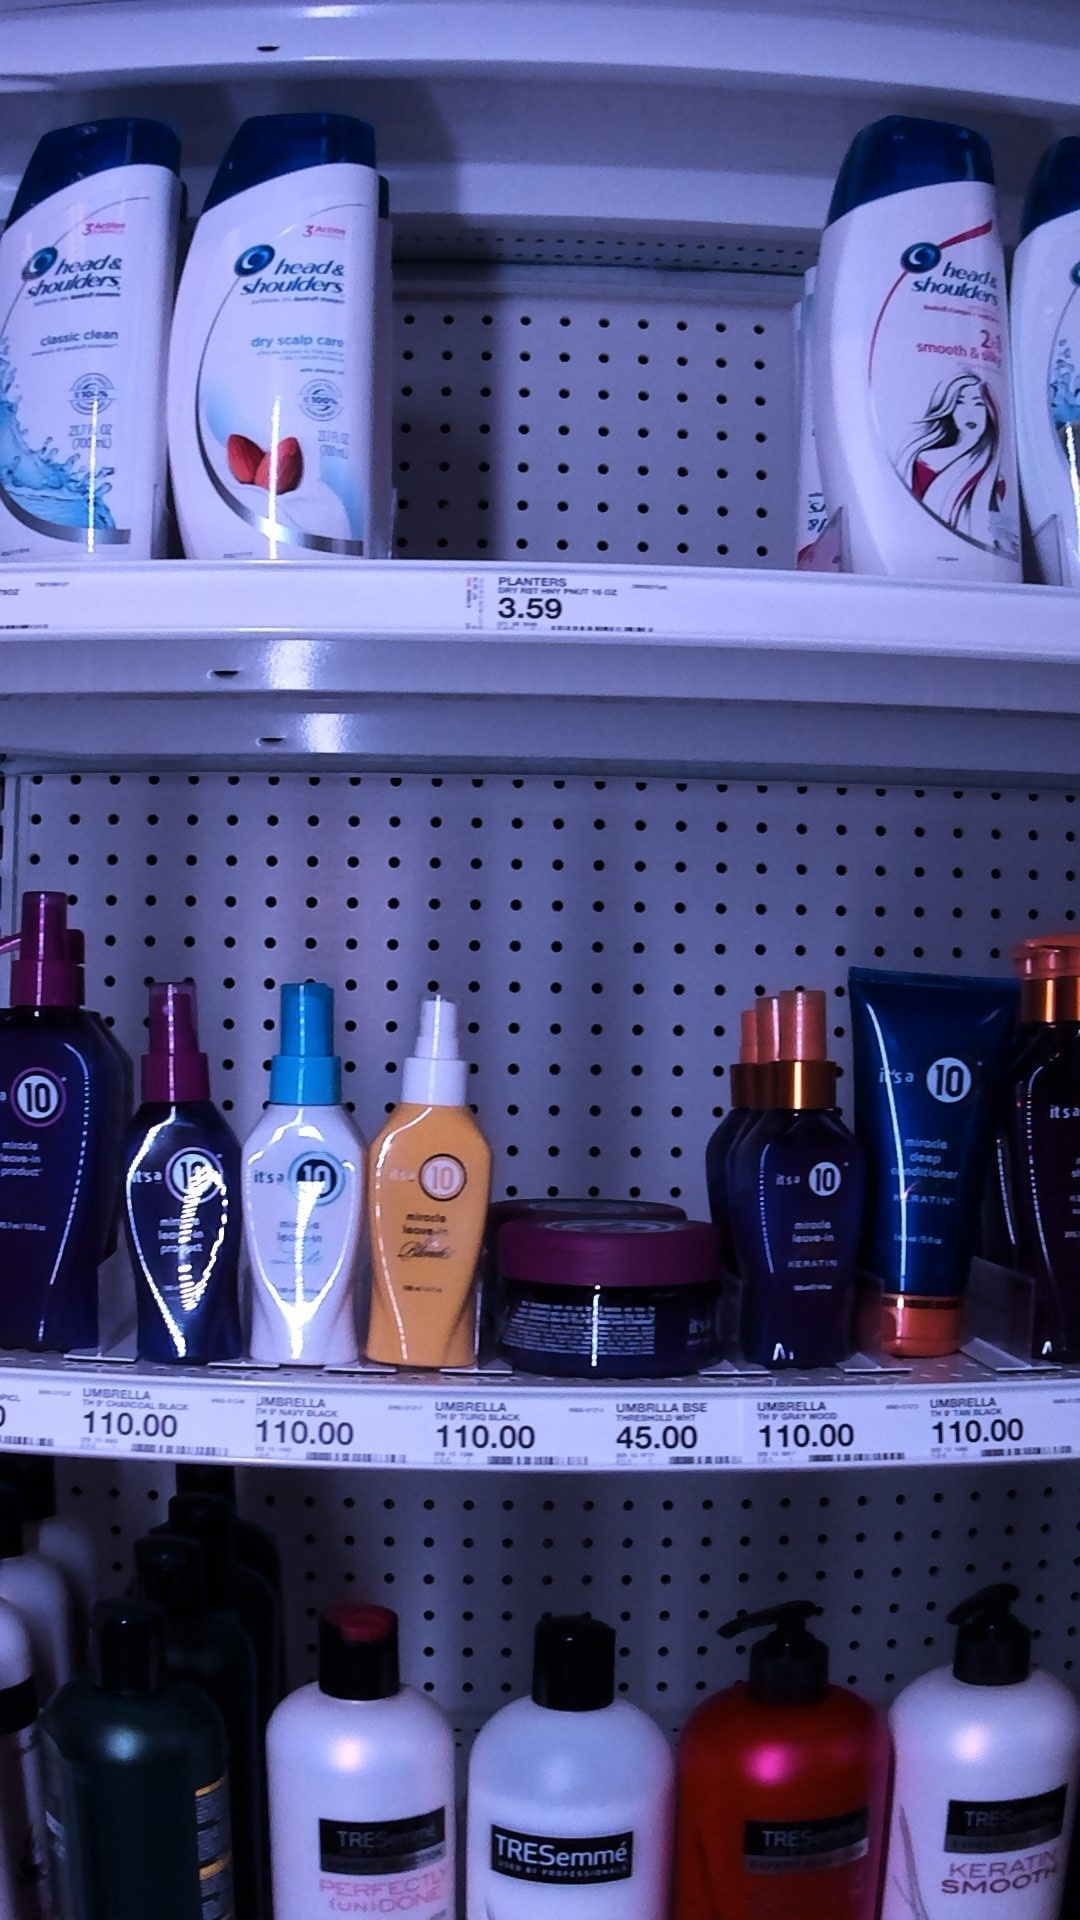ptag: (480, 571, 680, 646), (426, 1391, 589, 1477), (922, 1382, 1080, 1465), (255, 1389, 409, 1473), (749, 1385, 906, 1466), (84, 1379, 235, 1457), (615, 1391, 733, 1477)
